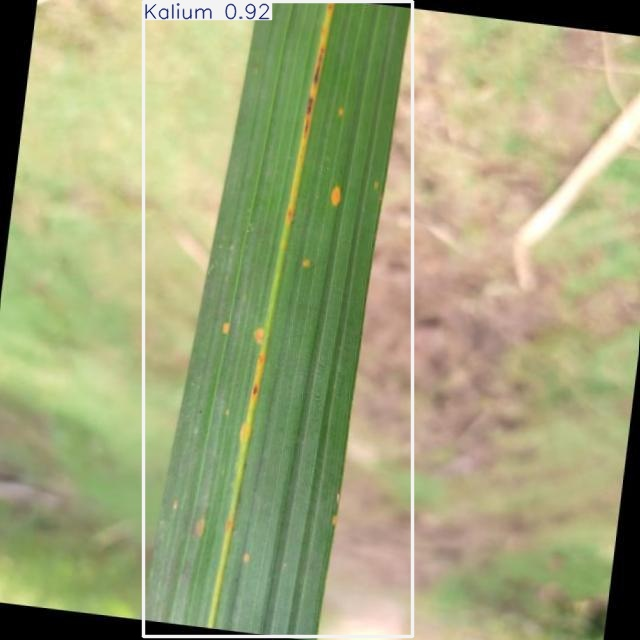Kalium: (143, 1, 413, 636)
